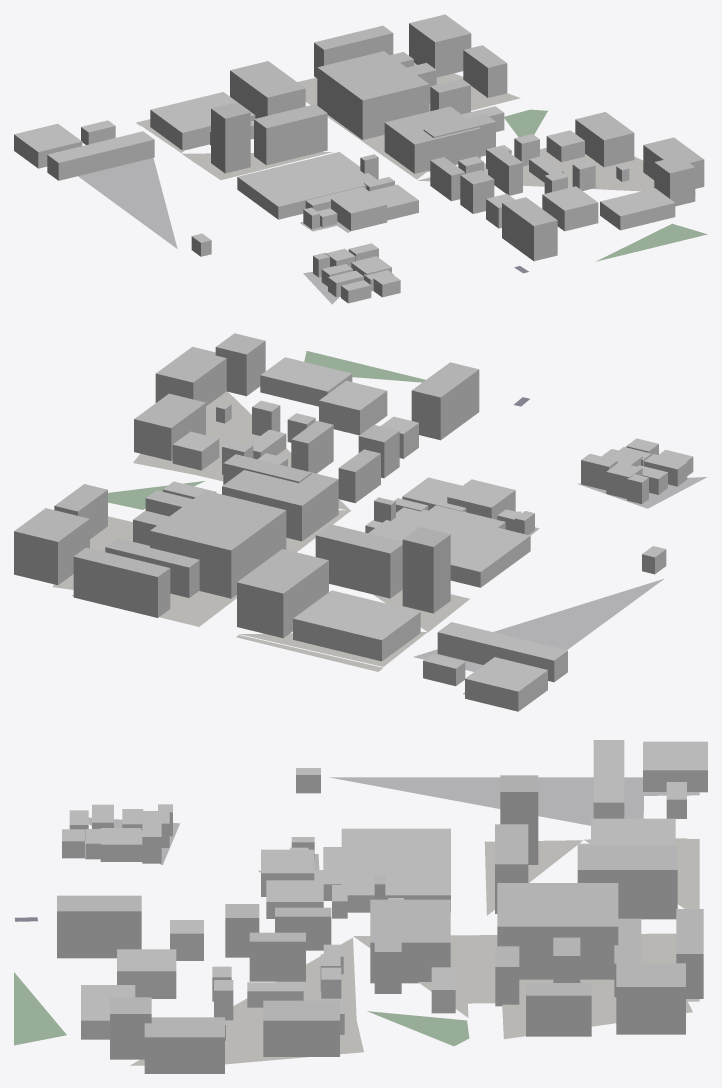
Rendered from 134_100_mid.glb.
3 views of the same model, one above another, from view 1: azimuth 30°, elevation 25°; view 2: azimuth 150°, elevation 25°; view 3: azimuth 270°, elevation 25° (orthographic). The views are drawn at different scales.
Size of the model in its own units: 539 by 61.73 by 506.
